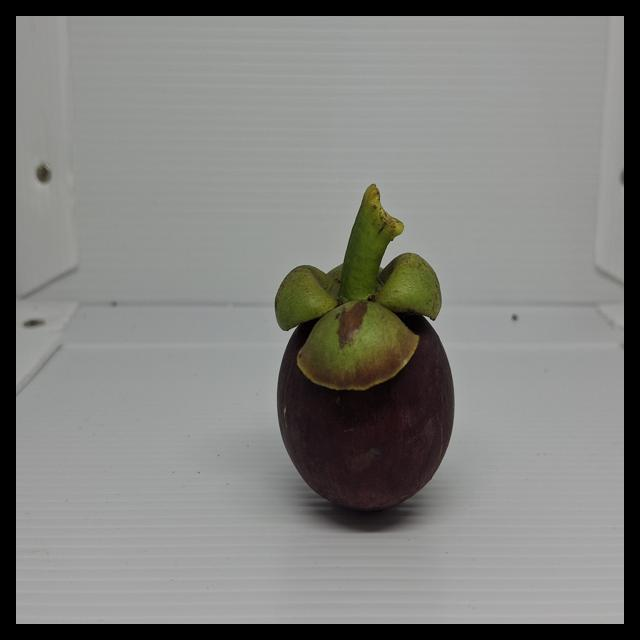mangosteen: (237, 170, 517, 522)
